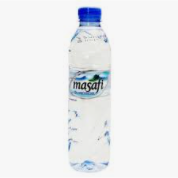Bottle: (69, 7, 112, 170)
